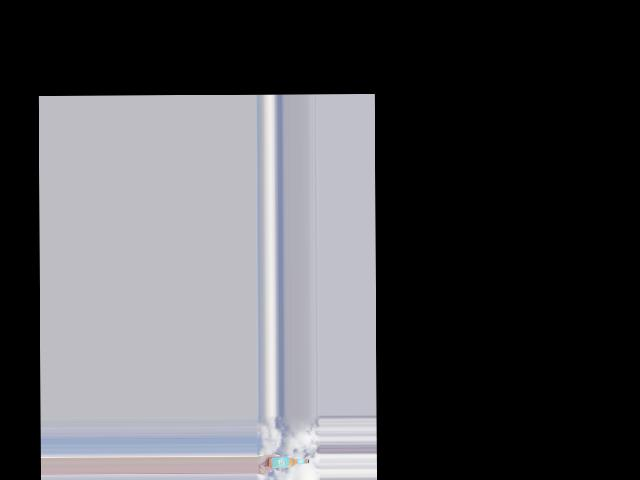beer: (267, 456, 309, 467)
